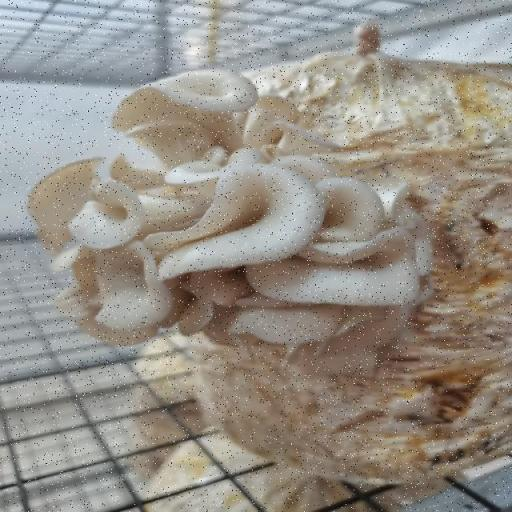White Oyster Mushroom: (29, 69, 439, 347)
